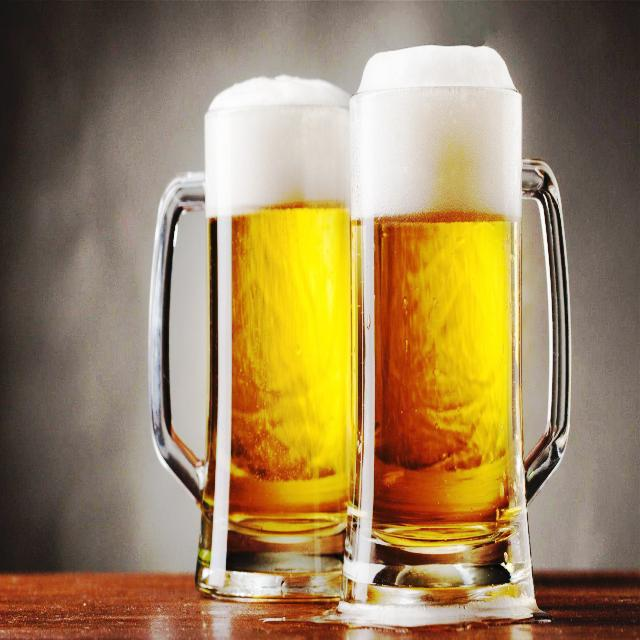drink: (348, 45, 523, 612), (202, 71, 347, 621)
